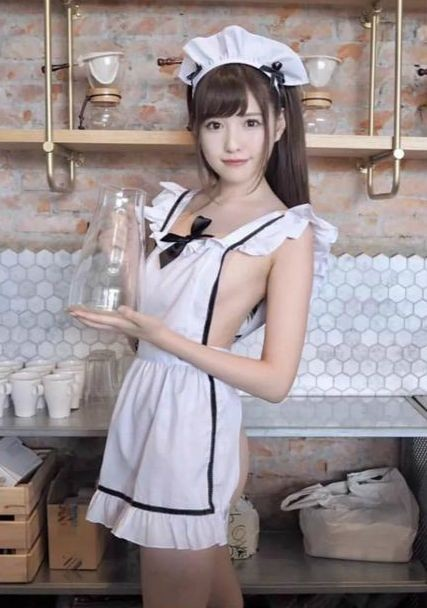people: (135, 48, 298, 608)
